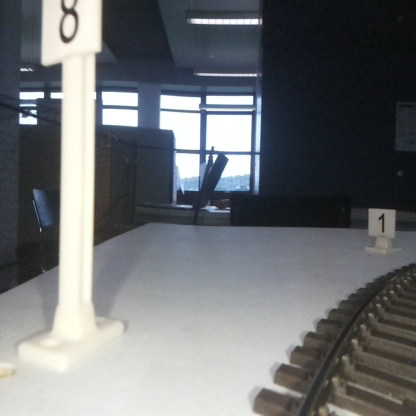white-info-8: (41, 0, 100, 362)
white-stop-1: (368, 208, 395, 251)
